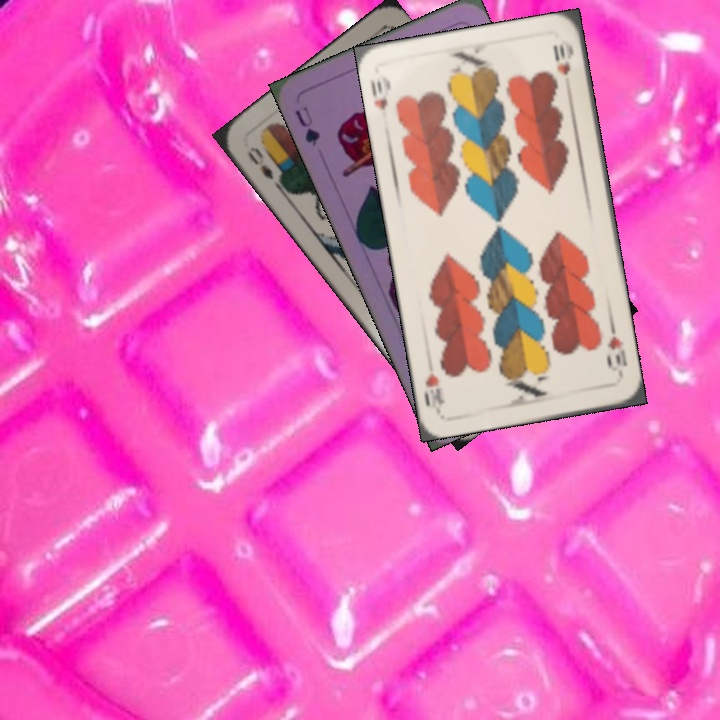EO: (242, 143, 285, 190)
GU: (291, 102, 323, 149)
H10: (602, 322, 630, 381), (366, 72, 393, 113)
